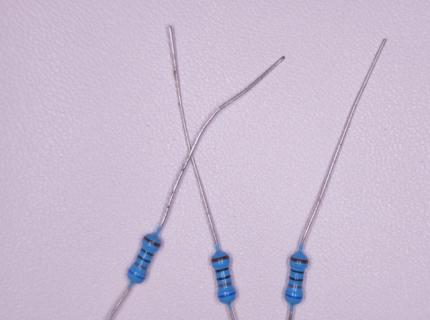Black band: (141, 248, 154, 256), (138, 255, 151, 263), (216, 267, 229, 273), (217, 275, 230, 281), (291, 269, 305, 274), (290, 277, 303, 282)
Blue band: (128, 270, 145, 280), (218, 291, 236, 298), (285, 294, 303, 299)
Brown band: (144, 236, 160, 247), (212, 255, 229, 263), (290, 257, 308, 263)
Grey band: (134, 261, 148, 270), (218, 282, 232, 288), (288, 284, 302, 289)
